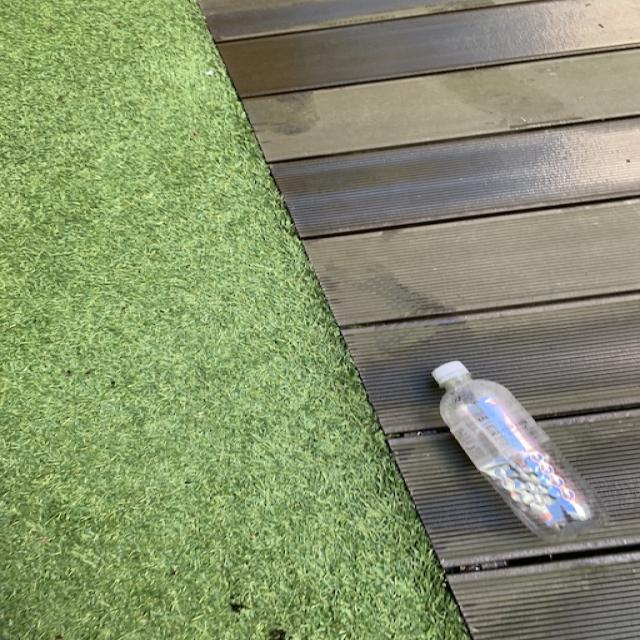Waste: (435, 362, 609, 543)
